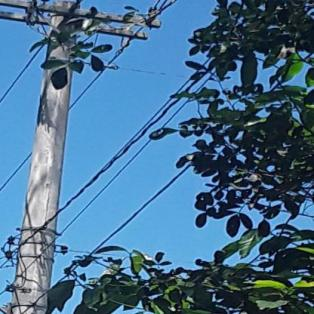Poste: (0, 1, 123, 314)
